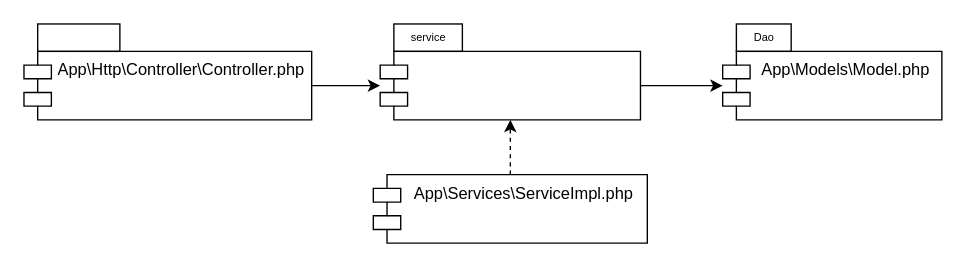
The diagram is 966 pixels wide and 267 high, and some of its shapes have lost their labels. The shapes that lost their labels are listed below. From the top down, each one's centre as x and y in pixels, then its label:
At point 78,37: "controller".
At point 509,85: "App\Services\Service.php".
